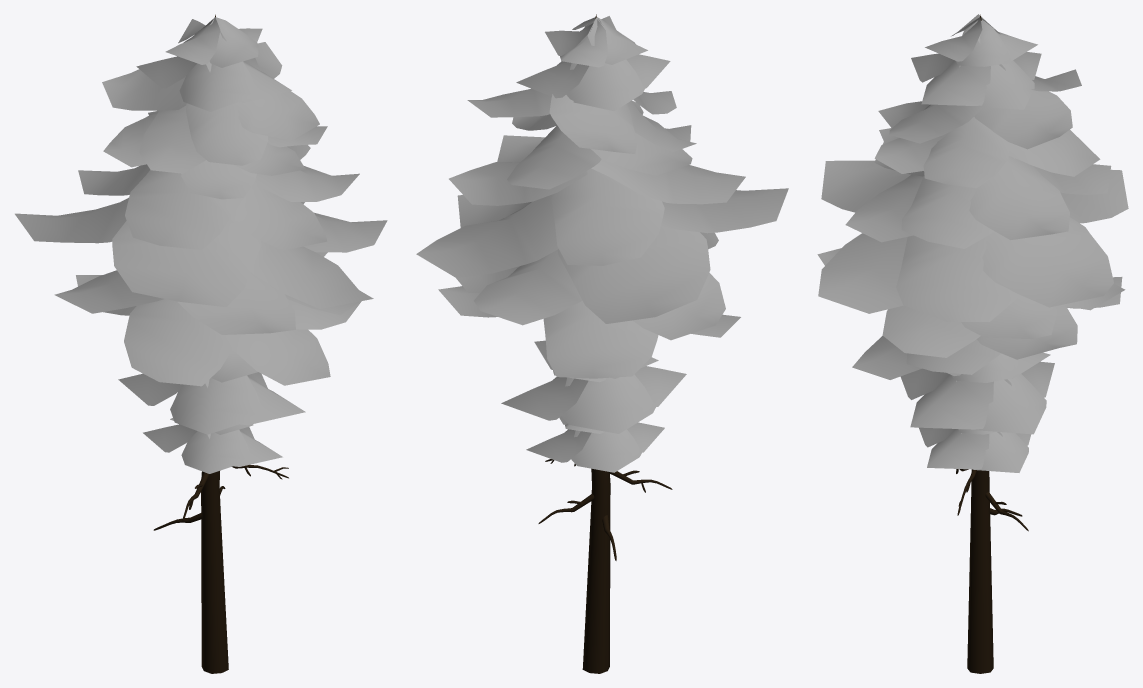
The model's file is PineTree_2.obj.
The picture shows the model from 3 angles, left to right: view 1: azimuth 30°, elevation 25°; view 2: azimuth 150°, elevation 25°; view 3: azimuth 270°, elevation 25°; orthographic projection.
Parts seen in each view (by area): view 1: PineTree_2_Cube.004; view 2: PineTree_2_Cube.004; view 3: PineTree_2_Cube.004.
Boxes of the visible parts, x1=… form: PineTree_2_Cube.004: x1=15, y1=14, x2=387, y2=673; PineTree_2_Cube.004: x1=416, y1=14, x2=788, y2=673; PineTree_2_Cube.004: x1=817, y1=14, x2=1128, y2=673.
Bounding box in the file's own units: 3.28 × 6.91 × 2.98.
